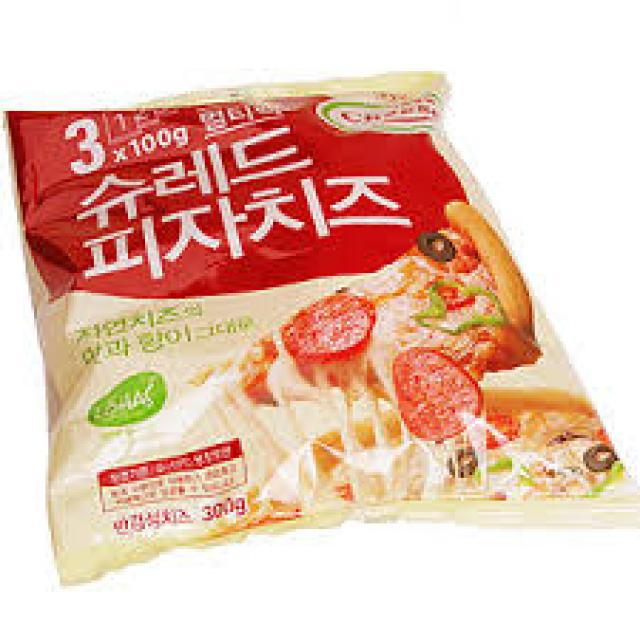Cheese: (11, 105, 603, 512)
